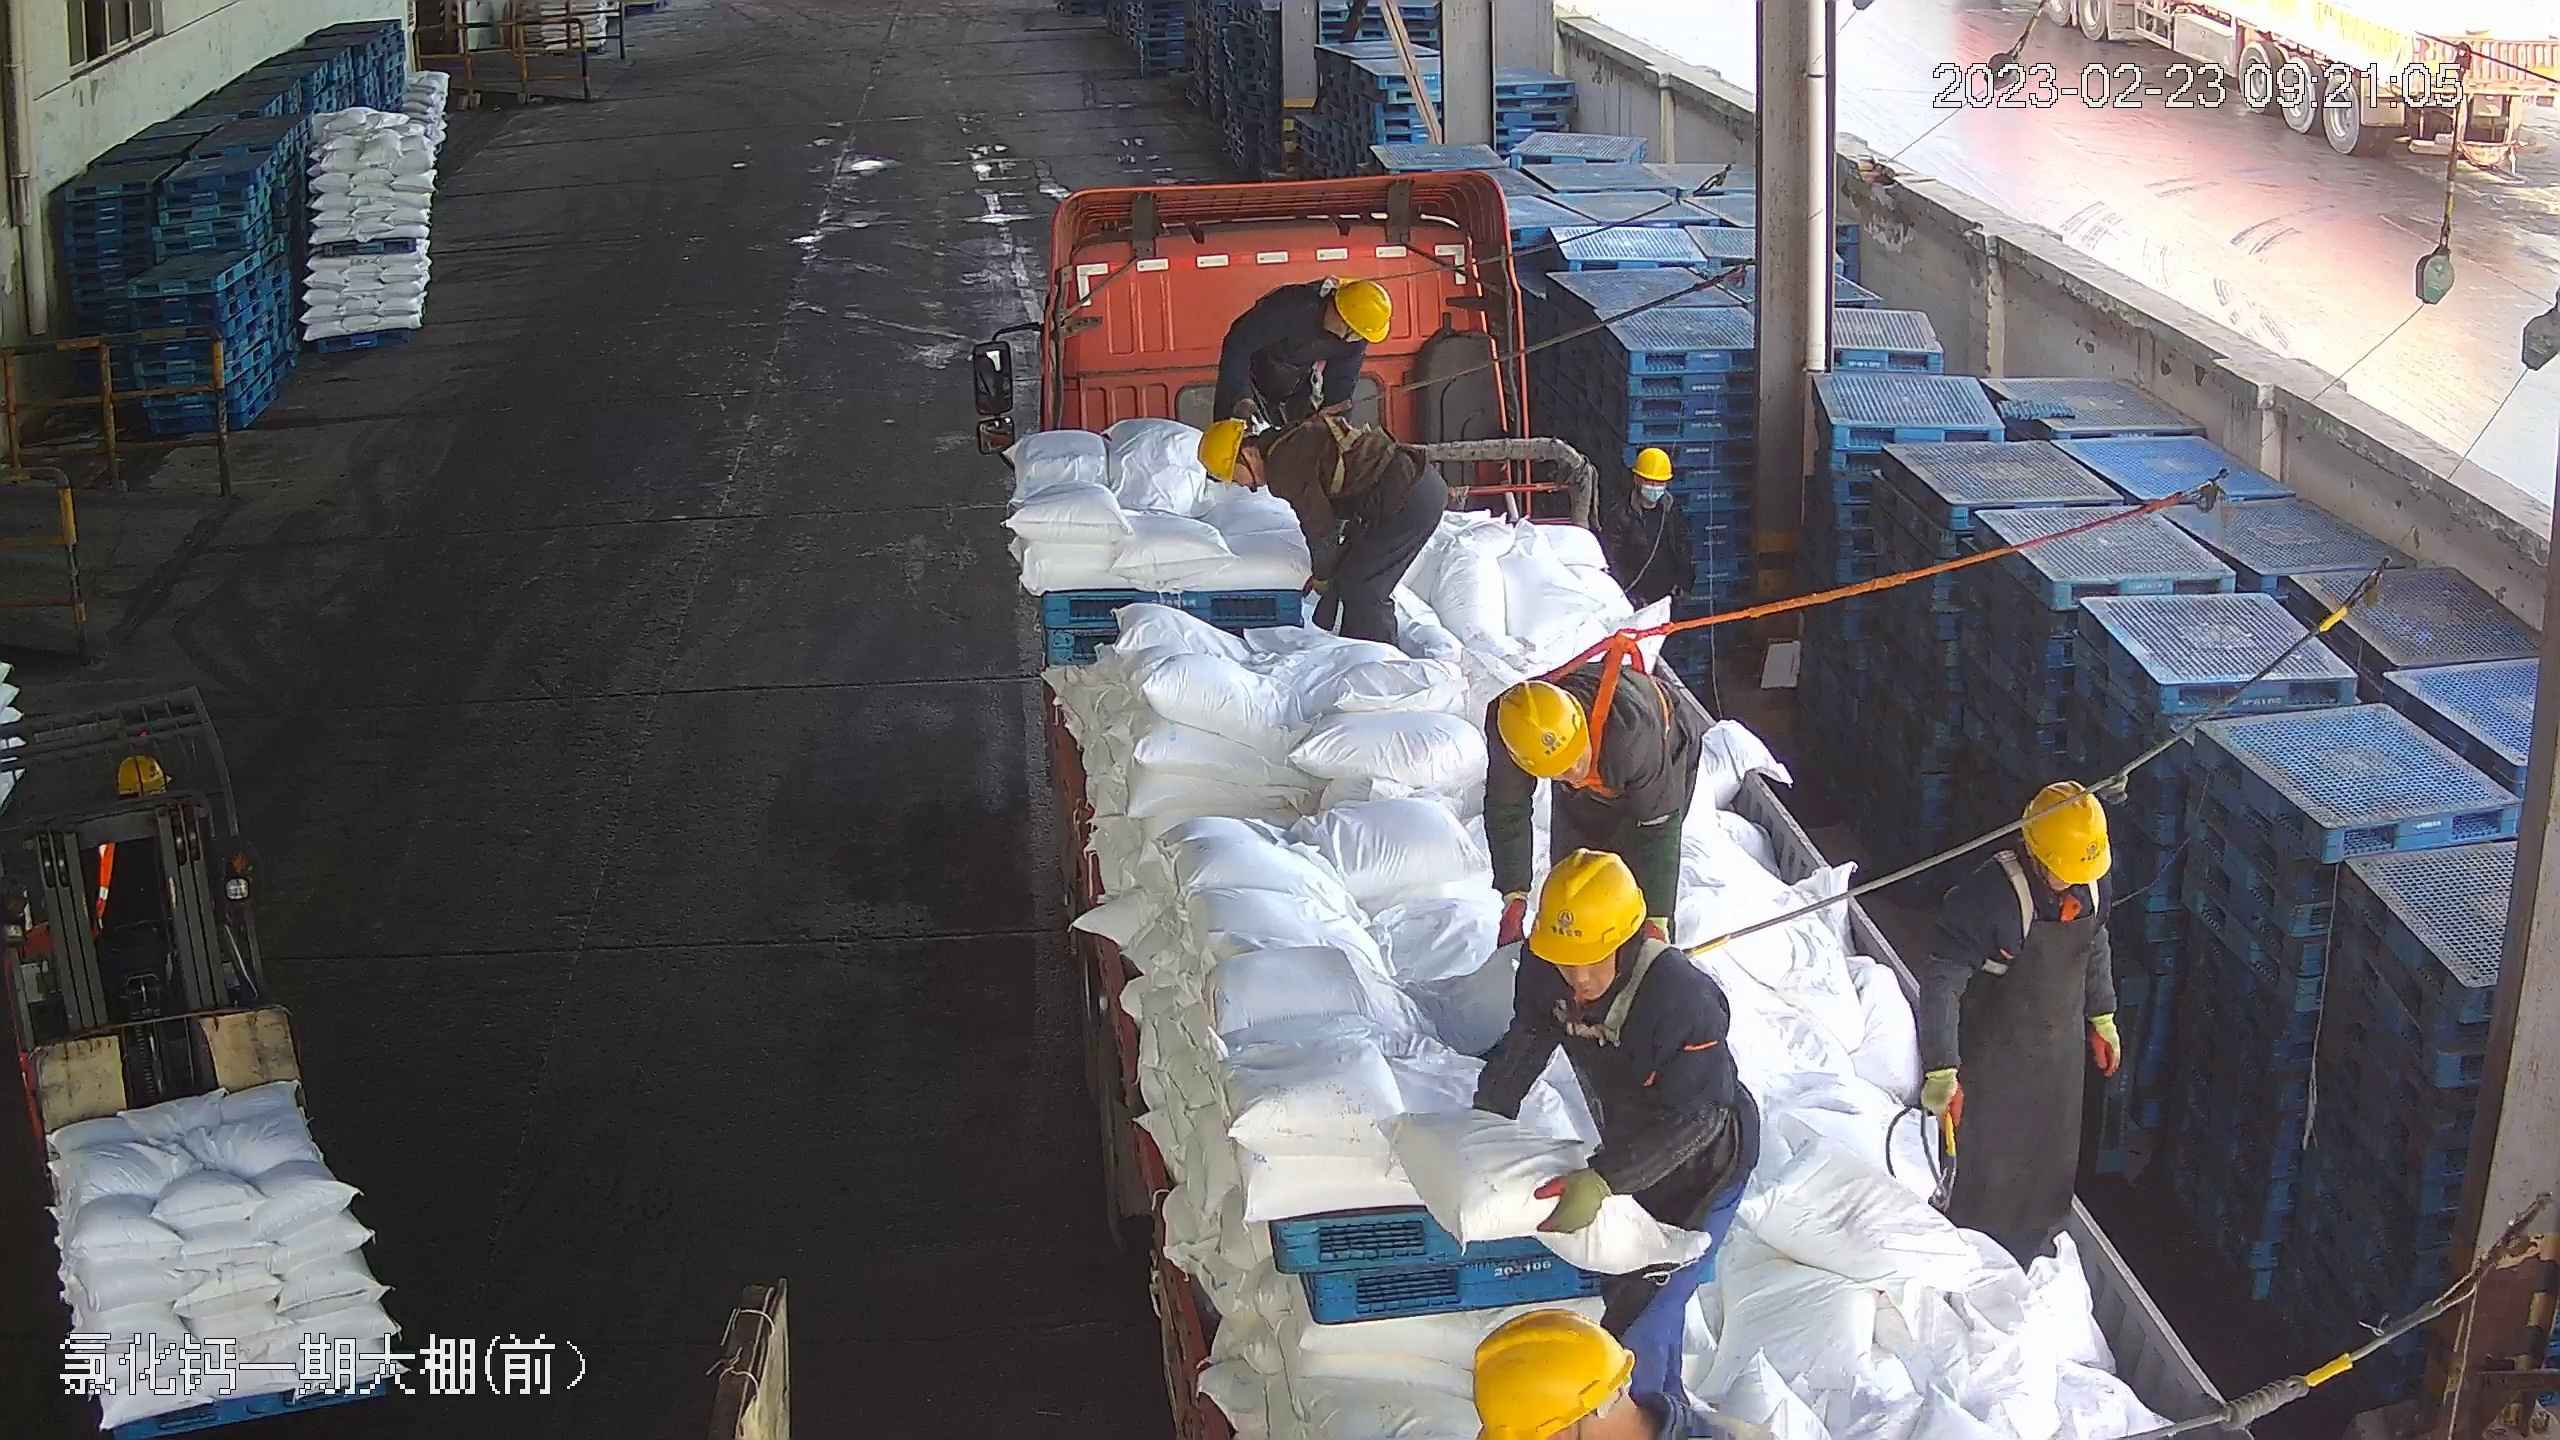belt: (1553, 615, 1672, 802), (1551, 927, 1692, 1054), (1979, 843, 2102, 942), (1267, 393, 1369, 499), (1309, 269, 1375, 295)
head: (1506, 848, 1734, 1043), (1931, 777, 2120, 964), (1480, 663, 1674, 802), (1240, 264, 1386, 356), (1195, 411, 1324, 499), (1609, 445, 1693, 541)
helmet: (1470, 1307, 1633, 1435), (1519, 844, 1648, 964), (2015, 778, 2113, 883), (1489, 677, 1589, 777), (1331, 269, 1399, 341), (1194, 414, 1249, 483), (1629, 443, 1677, 482)
people: (1481, 844, 1768, 1405), (1918, 777, 2128, 1271), (1205, 407, 1441, 636)
truck: (1008, 157, 2256, 1440)
